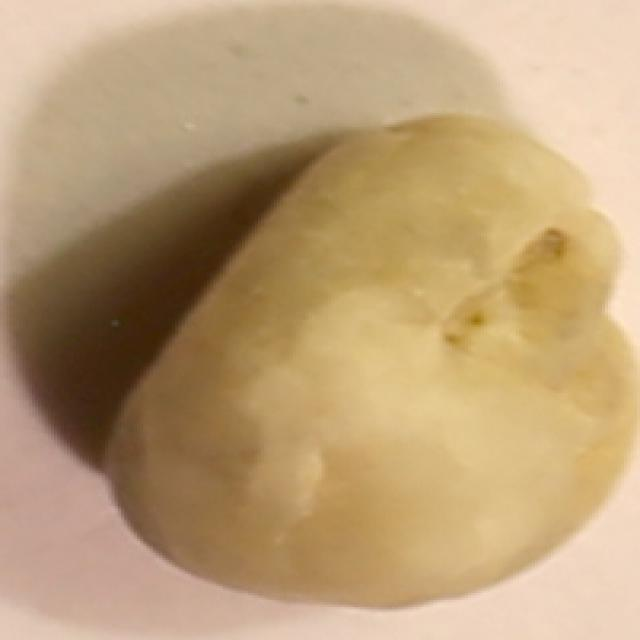stone: (112, 109, 640, 617)
